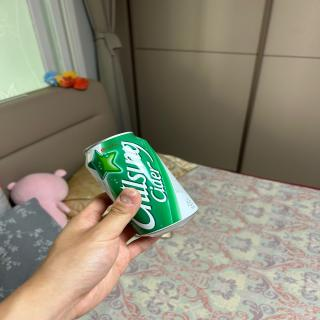cocacola: (82, 129, 200, 241)
